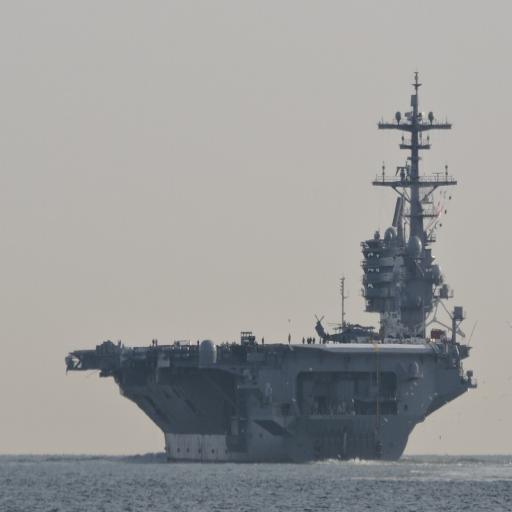Portanaves: (62, 68, 479, 460)
